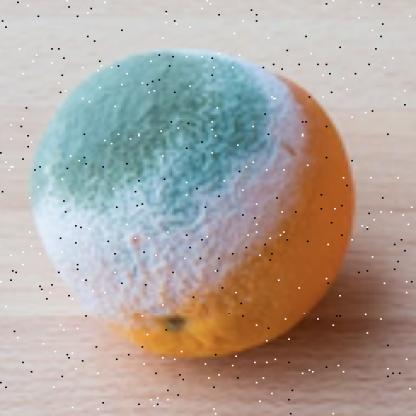rotten: (34, 52, 355, 355)
